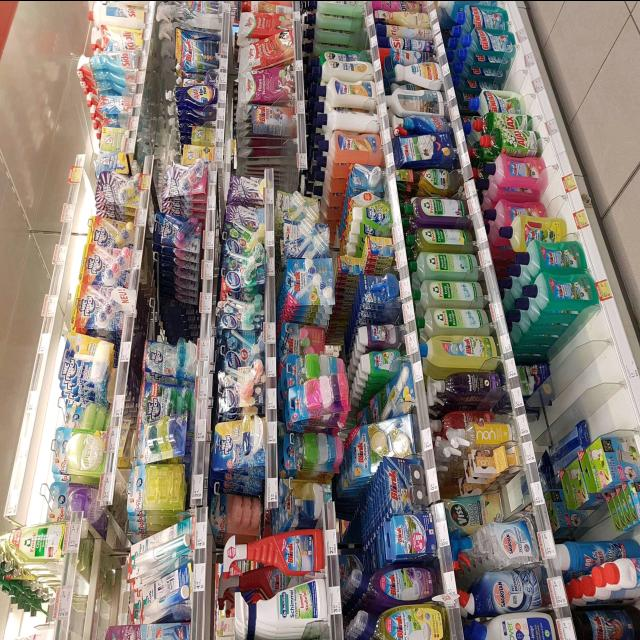empty_space: (540, 337, 614, 423), (153, 280, 201, 332)
